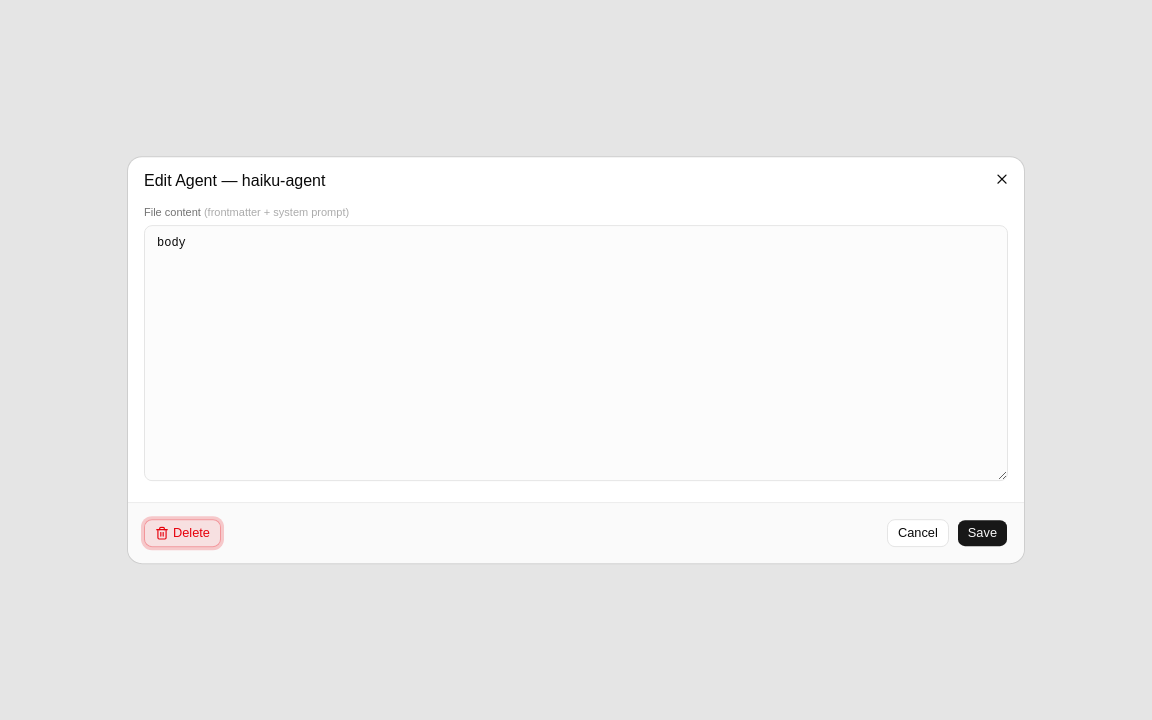
Test case: AgentEditorModal — edit existing agent › first delete click shows 'Confirm Delete'
The width and height of the screenshot is (1152, 720).
Click the button "Delete" at (182, 533), box [144,519,221,547]
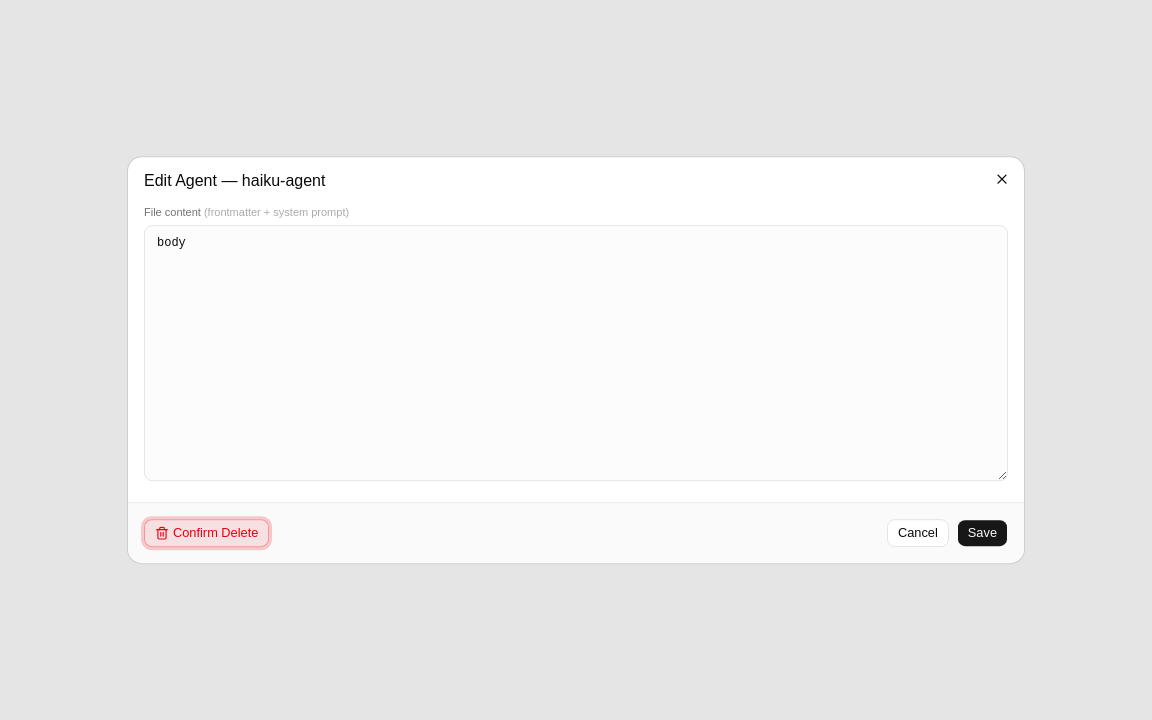
Expected: the button "Confirm Delete" is shown, [144,519,269,547]
